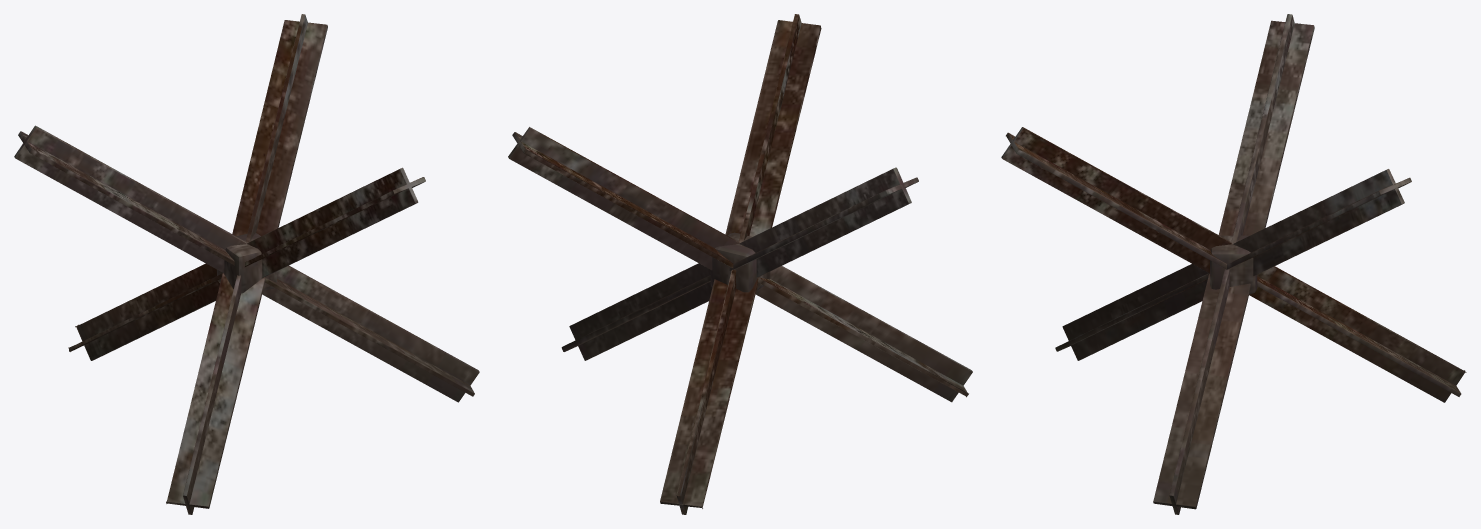
The model's file is czech_hedgehog.glb.
The picture shows the model from 3 angles, left to right: view 1: azimuth 30°, elevation 25°; view 2: azimuth 150°, elevation 25°; view 3: azimuth 270°, elevation 25°; orthographic projection.
Visible parts, largest first — view 1: czech_hedgehog_Iron; view 2: czech_hedgehog_Iron; view 3: czech_hedgehog_Iron.
Boxes of the visible parts, <box> form: czech_hedgehog_Iron: <box>14,14,479,514</box>; czech_hedgehog_Iron: <box>508,14,972,514</box>; czech_hedgehog_Iron: <box>1001,14,1466,514</box>.
Size of the model in its own units: 1.57 by 1.2 by 1.57.
Materials: 1 (1 with a texture image).
